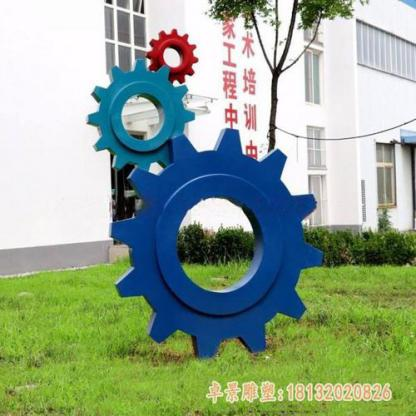FOD: (108, 128, 328, 364), (81, 57, 194, 173), (145, 29, 201, 87)
